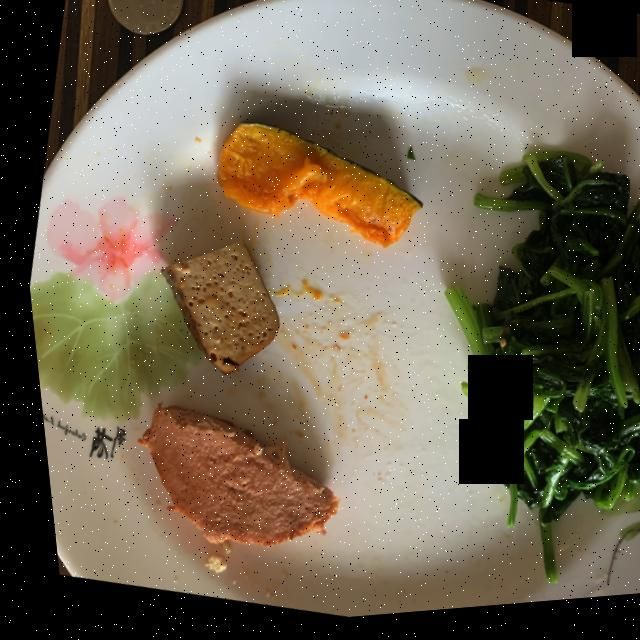Spam: (128, 405, 327, 549)
coin: (107, 0, 183, 36)
firm tofu: (154, 244, 272, 376)
mustard greens: (438, 159, 640, 590)
pumpkin: (213, 125, 416, 252)
